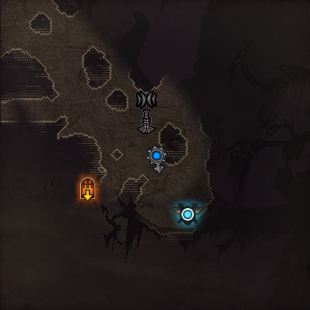Exit: (78, 176, 97, 203)
